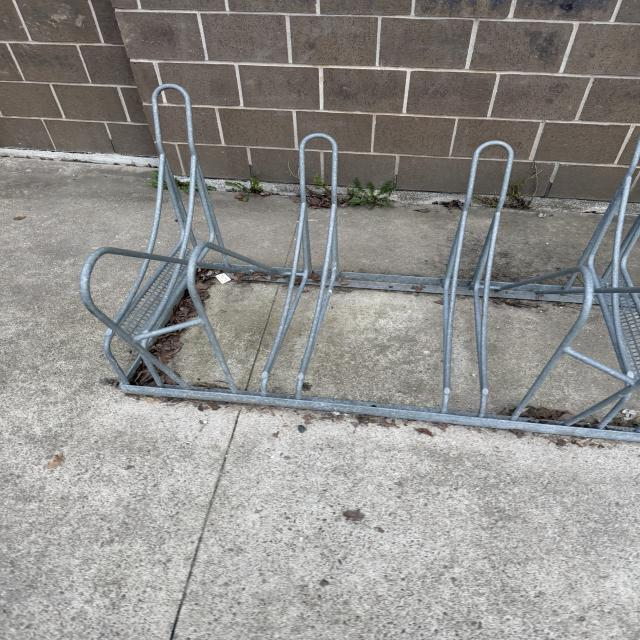Bicycle Rack: (77, 83, 640, 442)
